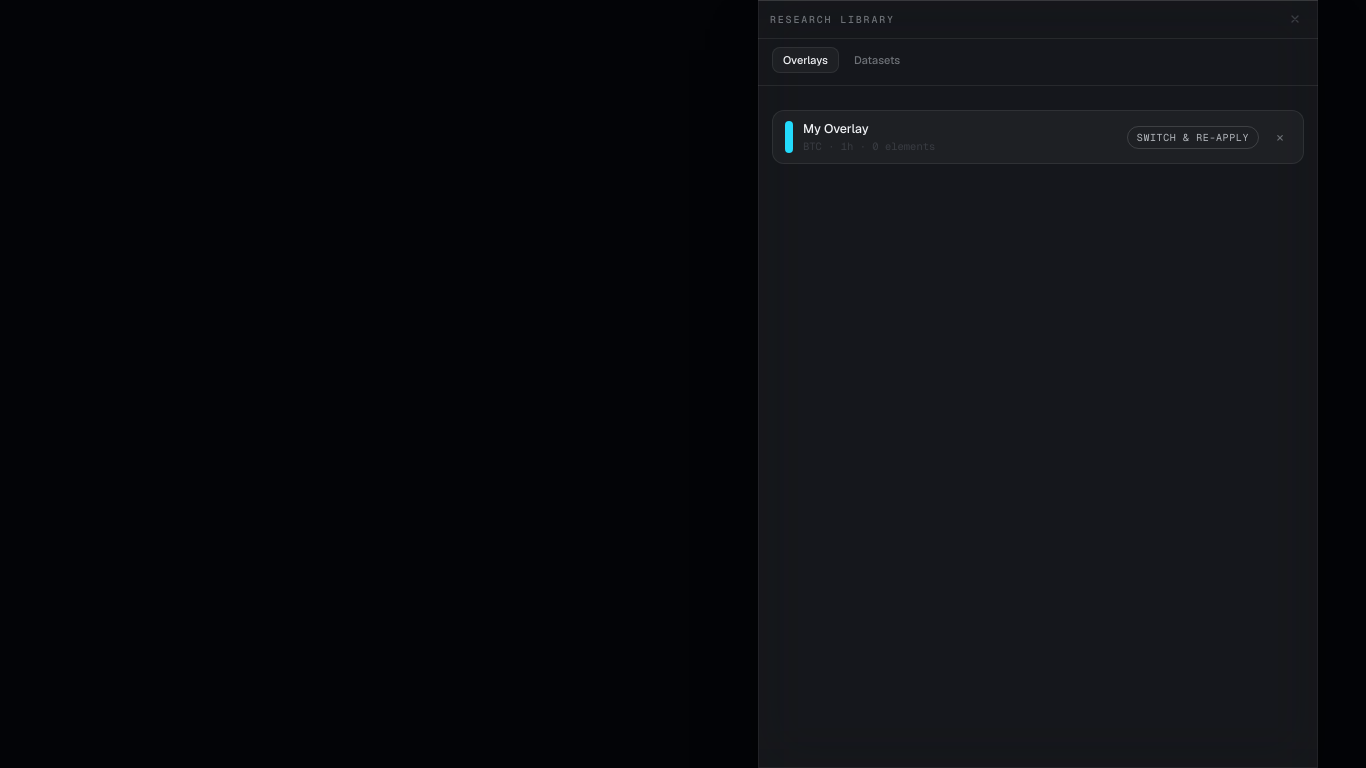
Scenario: ResearchLibrary › b. Armed delete › b1. first × click shows "confirm?" and aria-label "Confirm delete"
This screenshot has width=1366, height=768.
Click the button named "delete saved overlay my overlay".
click(1280, 137)  # box [1269, 126, 1291, 148]
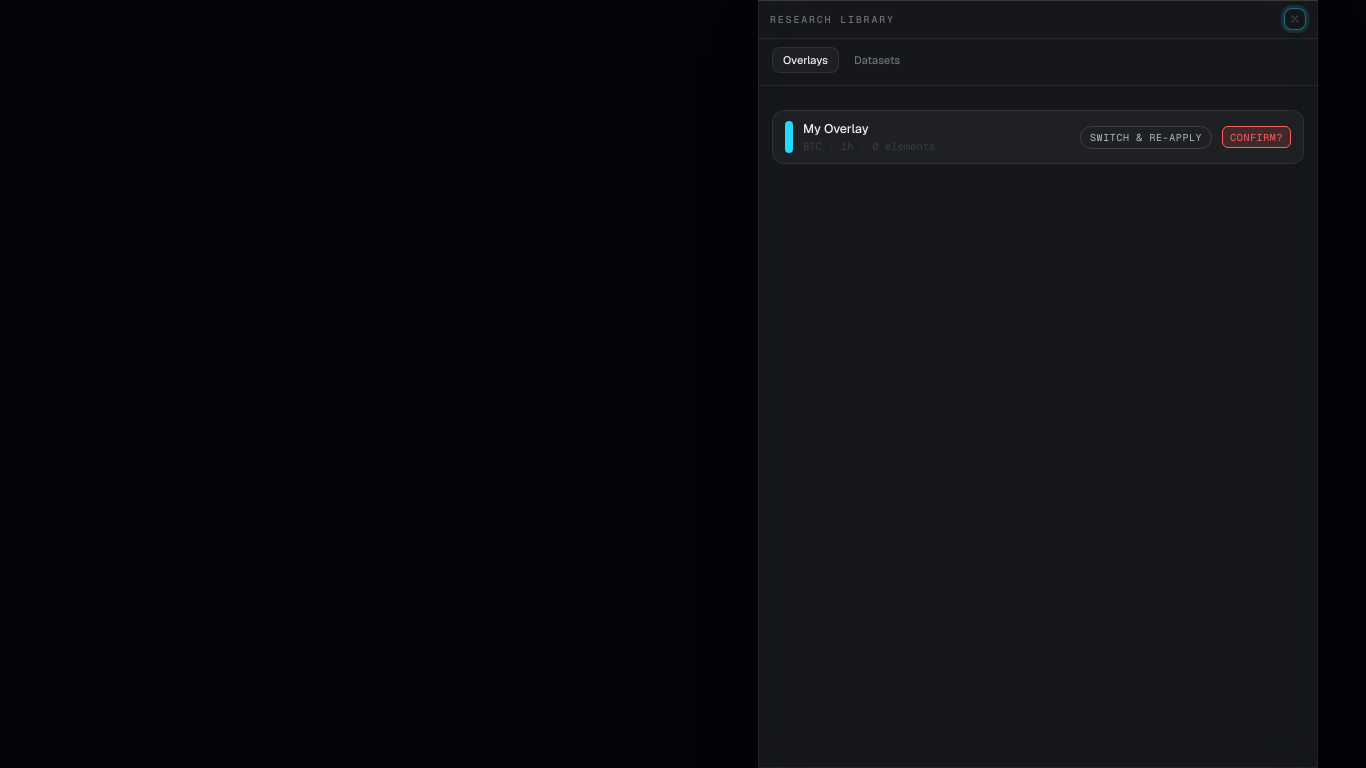
Result: the button named "delete saved overlay my overlay" reads "confirm?" at [1222, 126, 1291, 148]
